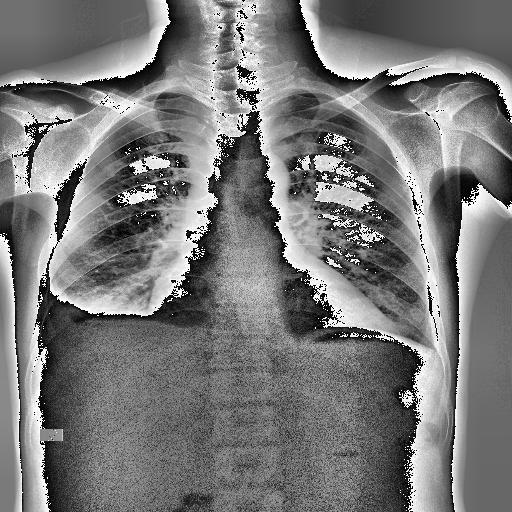10- Pleural effusion: (43, 277, 189, 346), (30, 282, 172, 349), (35, 288, 141, 356)
13- Pulmonary fibrosis: (118, 130, 152, 176)
3- Cardiomegaly: (146, 258, 395, 332), (149, 266, 395, 334), (150, 288, 393, 336)
